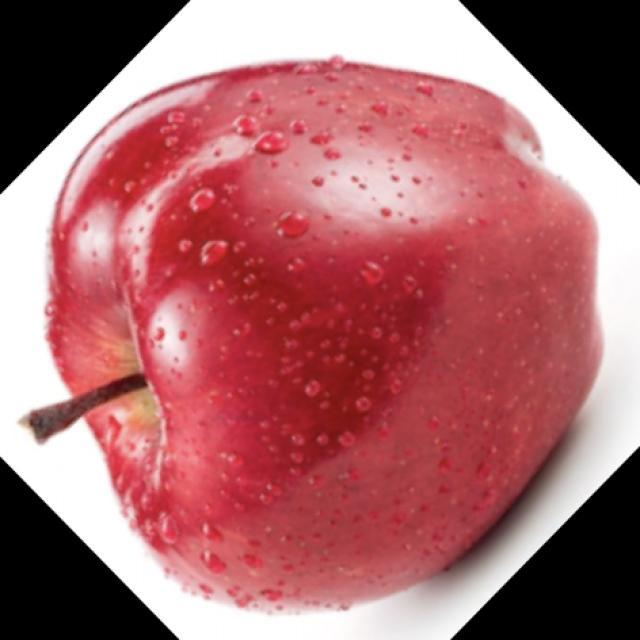Fresh Apple: (51, 59, 603, 614)
